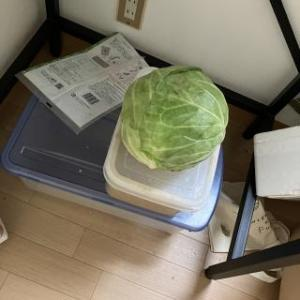cabbage: (118, 66, 230, 174)
